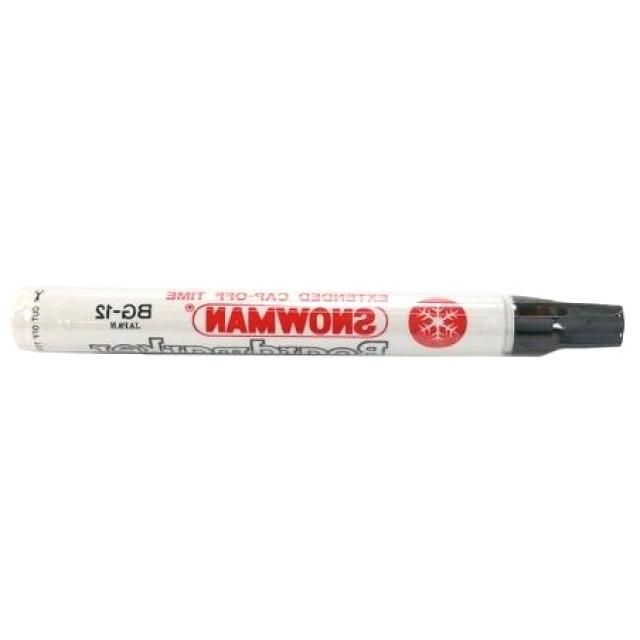B3: (2, 284, 626, 366)
